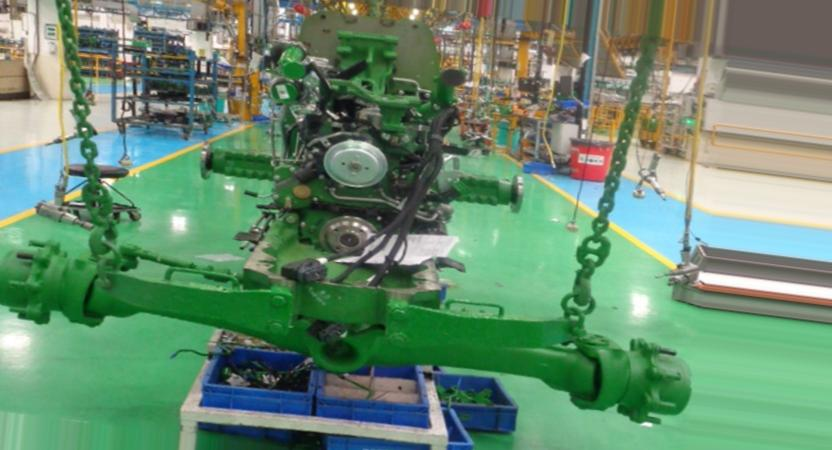engine: (0, 2, 703, 420)
